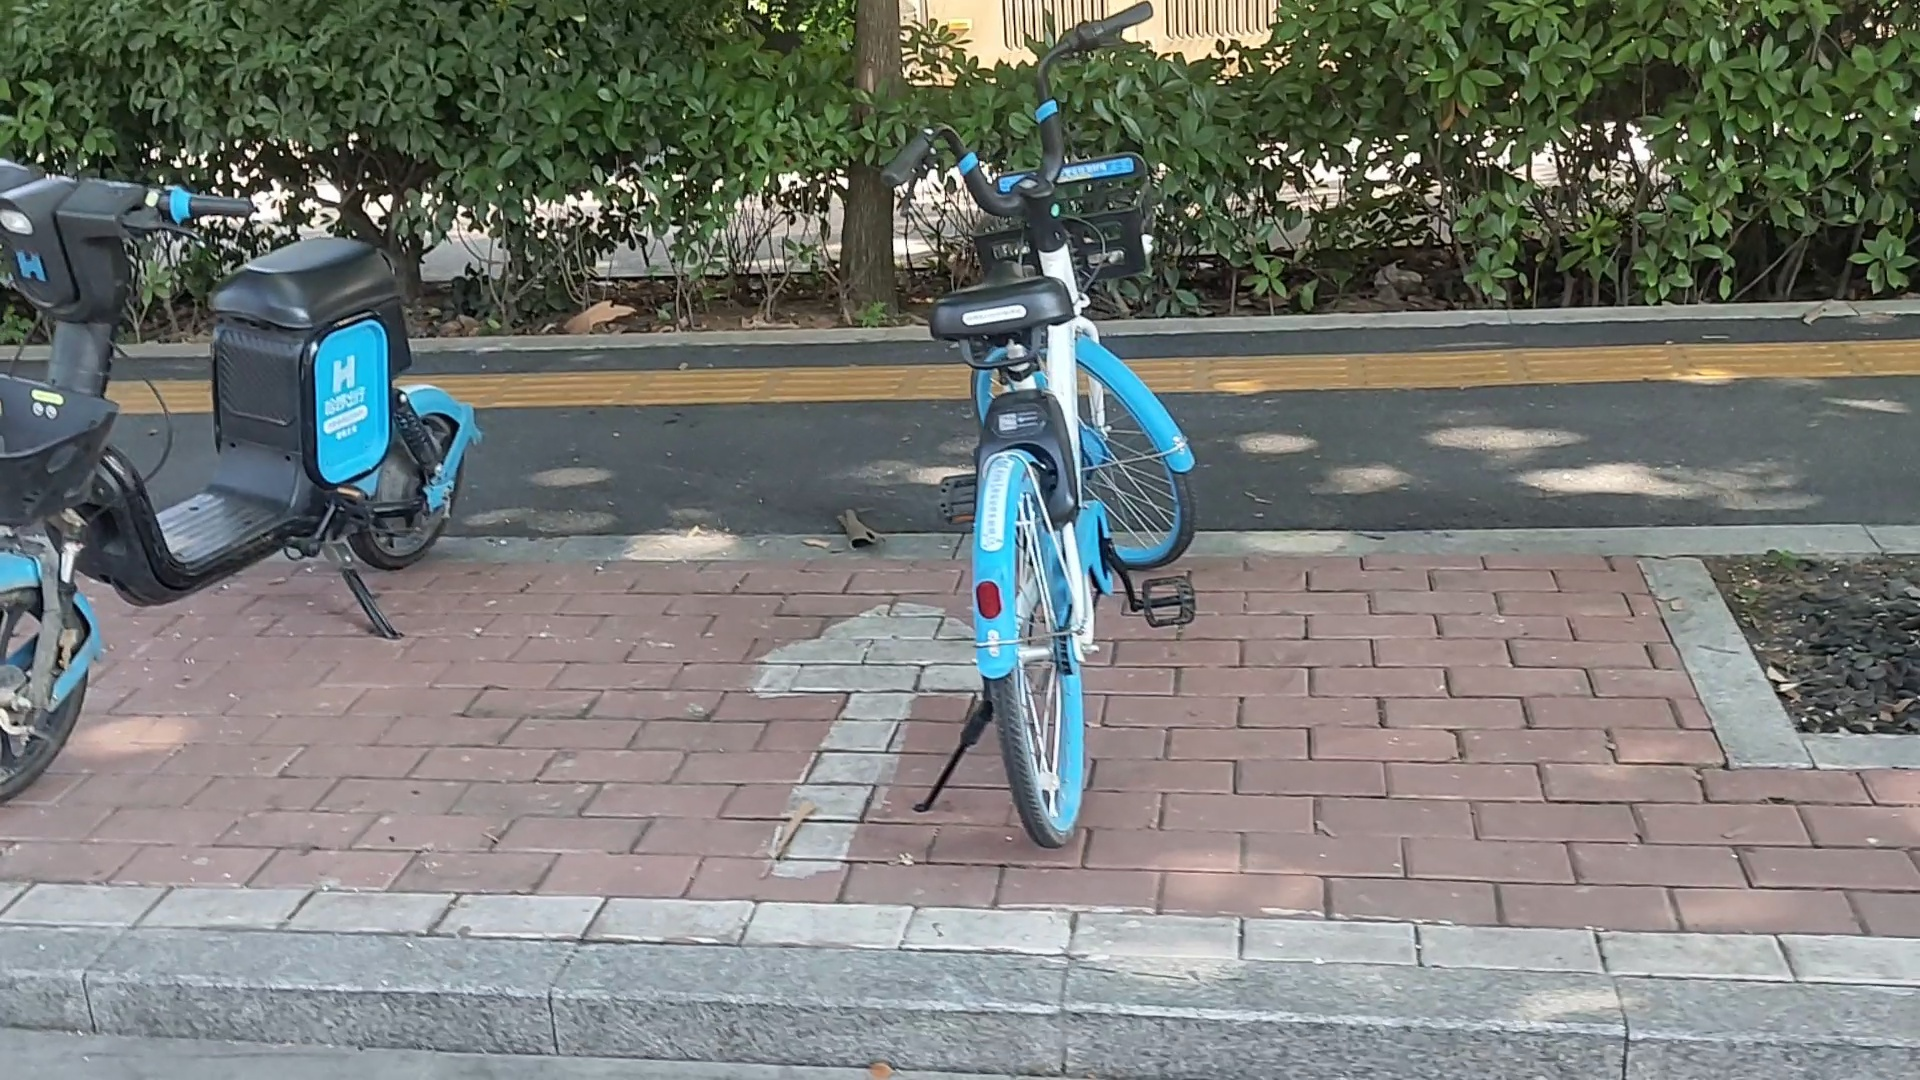non-vehicle: (7, 105, 471, 853), (889, 22, 1197, 856)
